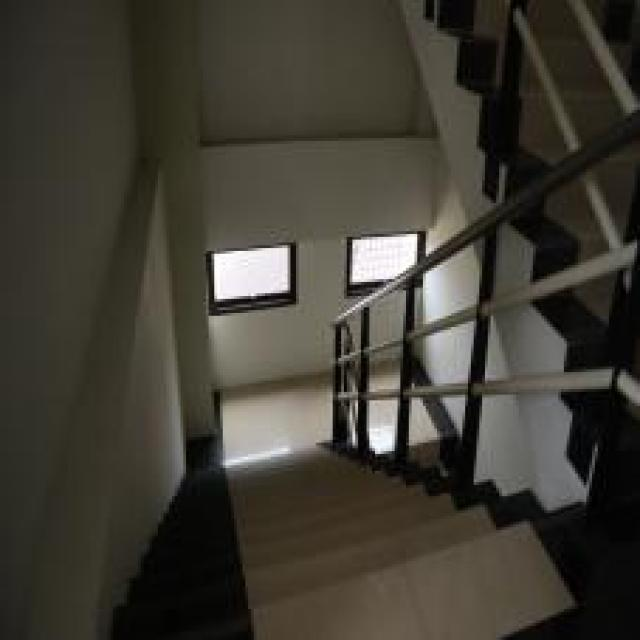downstair: (181, 497, 458, 638)
